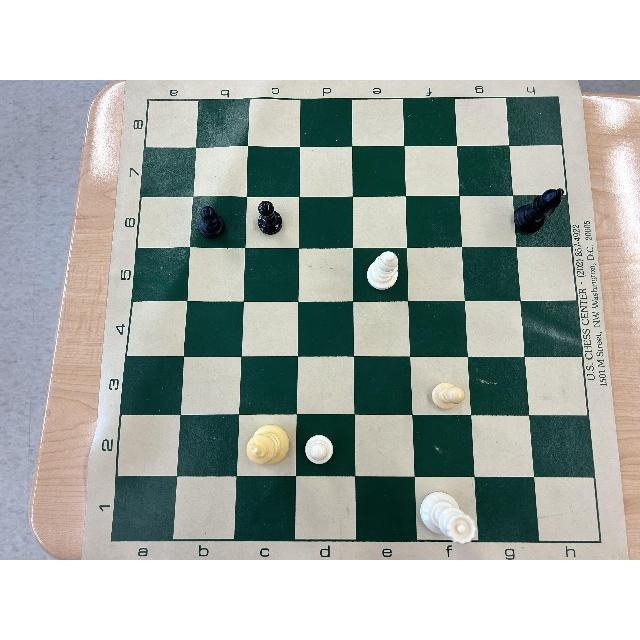black-bishop: (513, 188, 563, 234)
black-pawn: (197, 205, 227, 238), (257, 199, 283, 234)
white-bishop: (366, 251, 399, 291)
white-king: (246, 424, 291, 466)
white-pawn: (305, 436, 336, 466), (431, 381, 464, 408)
white-queen: (420, 490, 477, 543)
